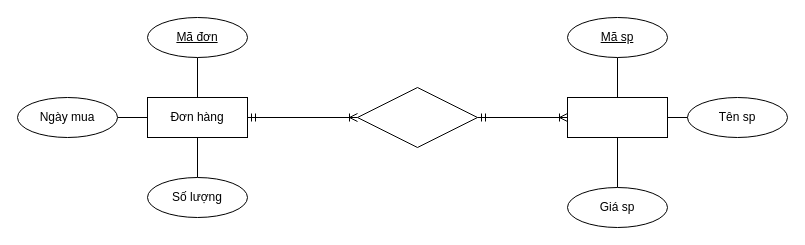
The diagram is 805 pixels wide and 245 high, and some of its shapes have lost their labels. The centre of each missing label's shape, as x and y in pixels:
Mua: (417,117)
Sản phẩm: (617,117)
